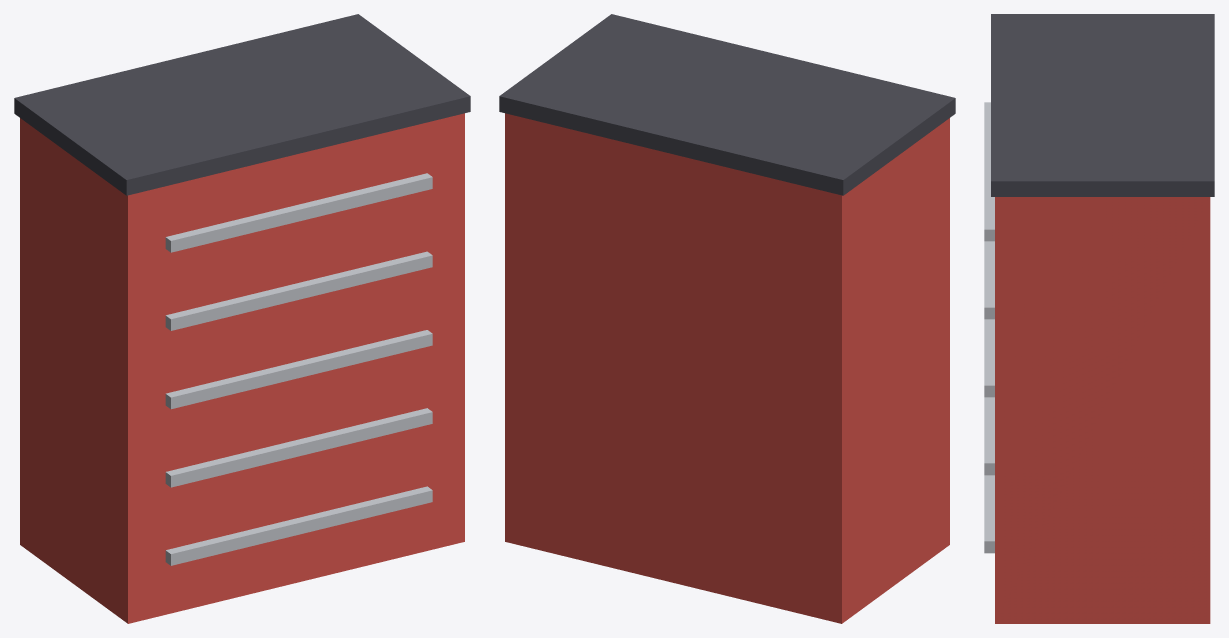
Rendered from toolbox_rolling_chest.glb.
3 renders of one model, left to right at view 1: azimuth 30°, elevation 25°; view 2: azimuth 150°, elevation 25°; view 3: azimuth 270°, elevation 25°, orthographic.
Parts seen in each view (by area): view 1: toolbox_rolling_chest; view 2: toolbox_rolling_chest; view 3: toolbox_rolling_chest.
Part boxes in pixels (left/top/right/bottom): toolbox_rolling_chest: left=14, top=14, right=470, bottom=623; toolbox_rolling_chest: left=499, top=14, right=955, bottom=623; toolbox_rolling_chest: left=984, top=14, right=1214, bottom=623.
Bounding box in the file's own units: 0.92 × 1.14 × 0.535.
